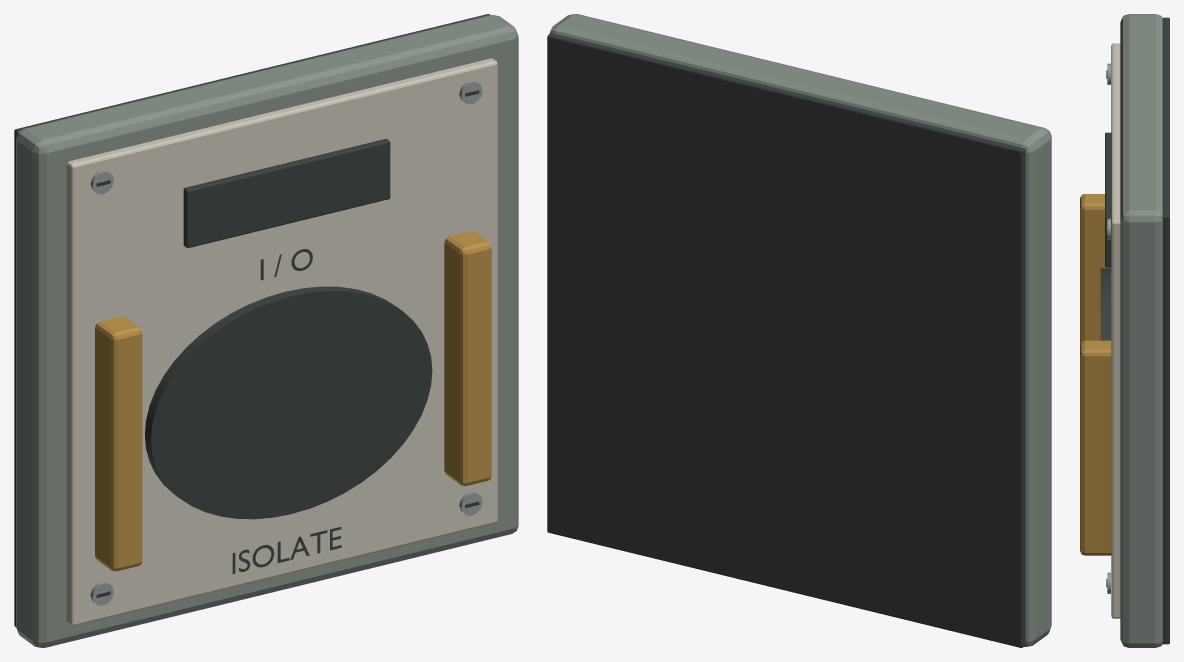
The model's file is panel_isolator.glb.
The picture shows the model from 3 angles, left to right: view 1: azimuth 30°, elevation 25°; view 2: azimuth 150°, elevation 25°; view 3: azimuth 270°, elevation 25°; orthographic projection. The views are drawn at different scales.
Parts seen in each view (by area): view 1: panel_isolator / hardware_instrument_ivory, panel_isolator / hardware_dark_steel, panel_isolator / hardware_sage_enamel, panel_isolator / hardware_safety_ochre, panel_isolator / hardware_satin_steel; view 2: panel_isolator / hardware_dark_steel, panel_isolator / hardware_sage_enamel; view 3: panel_isolator / hardware_sage_enamel, panel_isolator / hardware_safety_ochre, panel_isolator / hardware_dark_steel, panel_isolator / hardware_instrument_ivory, panel_isolator / hardware_satin_steel.
Part boxes in pixels (x1=…): panel_isolator / hardware_instrument_ivory: x1=66, y1=58, x2=497, y2=625; panel_isolator / hardware_dark_steel: x1=14, y1=14, x2=489, y2=627; panel_isolator / hardware_sage_enamel: x1=16, y1=15, x2=518, y2=647; panel_isolator / hardware_safety_ochre: x1=95, y1=231, x2=491, y2=571; panel_isolator / hardware_satin_steel: x1=90, y1=80, x2=482, y2=605; panel_isolator / hardware_dark_steel: x1=547, y1=33, x2=1025, y2=647; panel_isolator / hardware_sage_enamel: x1=549, y1=14, x2=1051, y2=646; panel_isolator / hardware_sage_enamel: x1=1120, y1=14, x2=1162, y2=647; panel_isolator / hardware_safety_ochre: x1=1080, y1=194, x2=1111, y2=555; panel_isolator / hardware_dark_steel: x1=1100, y1=17, x2=1169, y2=644; panel_isolator / hardware_instrument_ivory: x1=1111, y1=43, x2=1120, y2=618; panel_isolator / hardware_satin_steel: x1=1107, y1=63, x2=1110, y2=593.
Bounding box in the file's own units: 1 × 1 × 0.1865.
